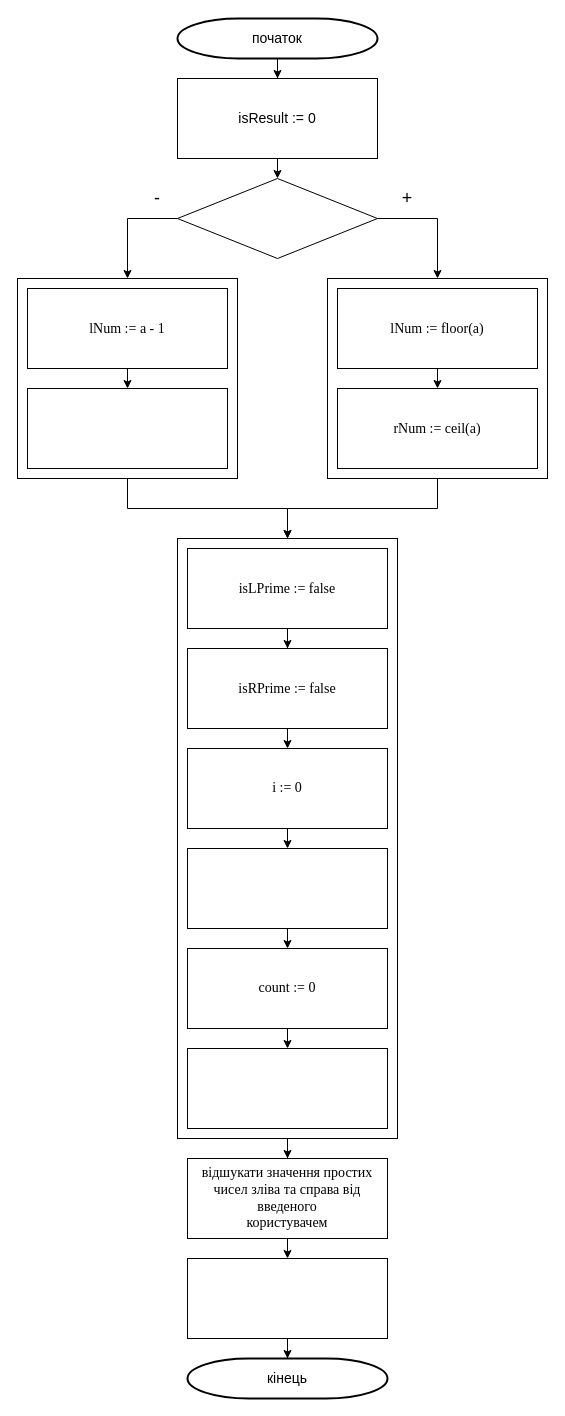
Image size: 565x1416. Some labels were removed from this diagram. The shapes that lost their labels are listed below. From the top down, each one's centre as x and y in pixels, then its label:
[277,218]: ((double)a / (int)a) != 1 та a != 0
[127,428]: rNum : = a + 1
[287,888]: y := 0
[287,1088]: count2 := 0
[287,1298]: визначити, яке просте число або числа будуть результатом виконання програми
